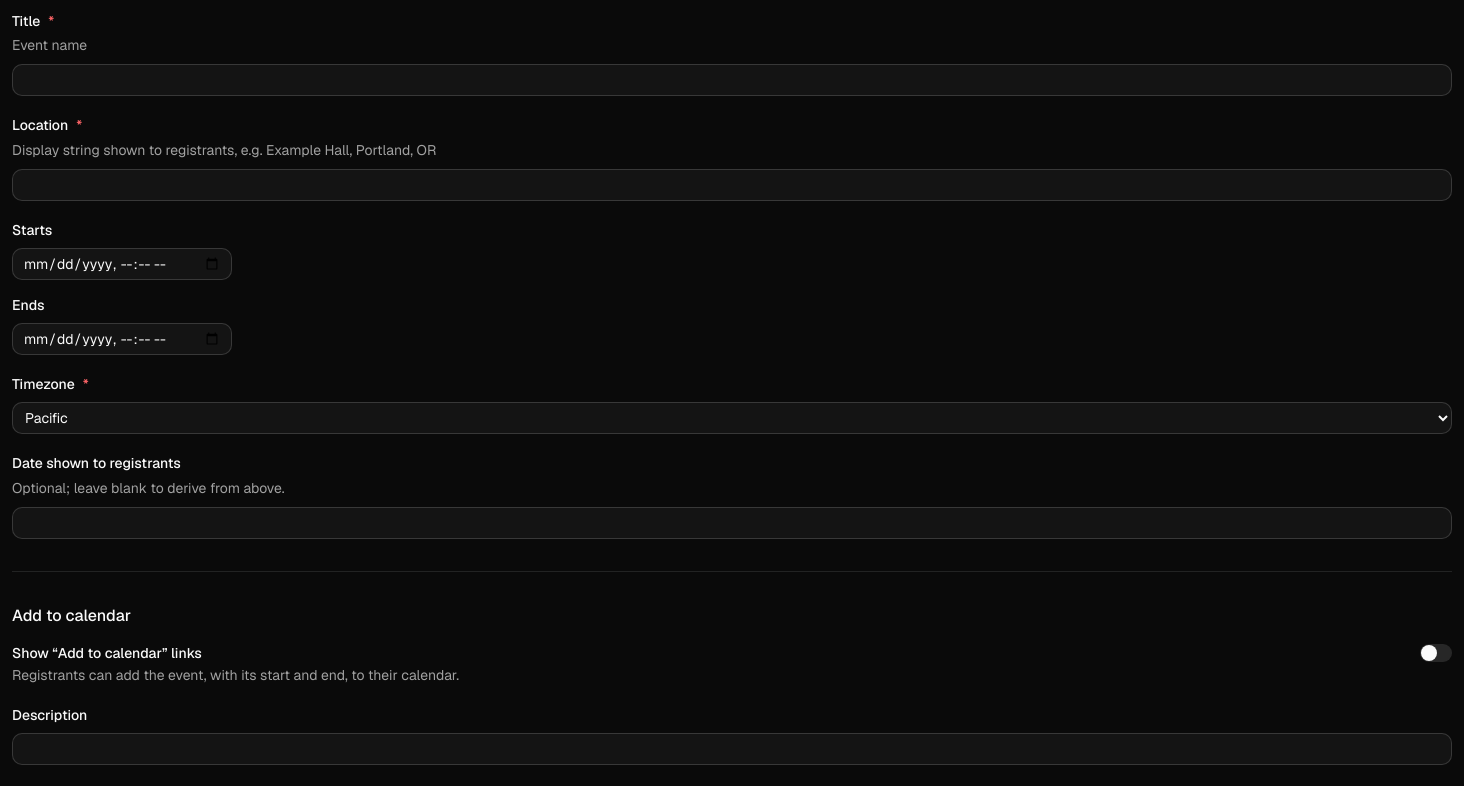
EventForm › calendar links › need a start and end before they're saved as shown
Click the switch named "Add to calendar": (1436, 653) 1420,644 -> 1452,662
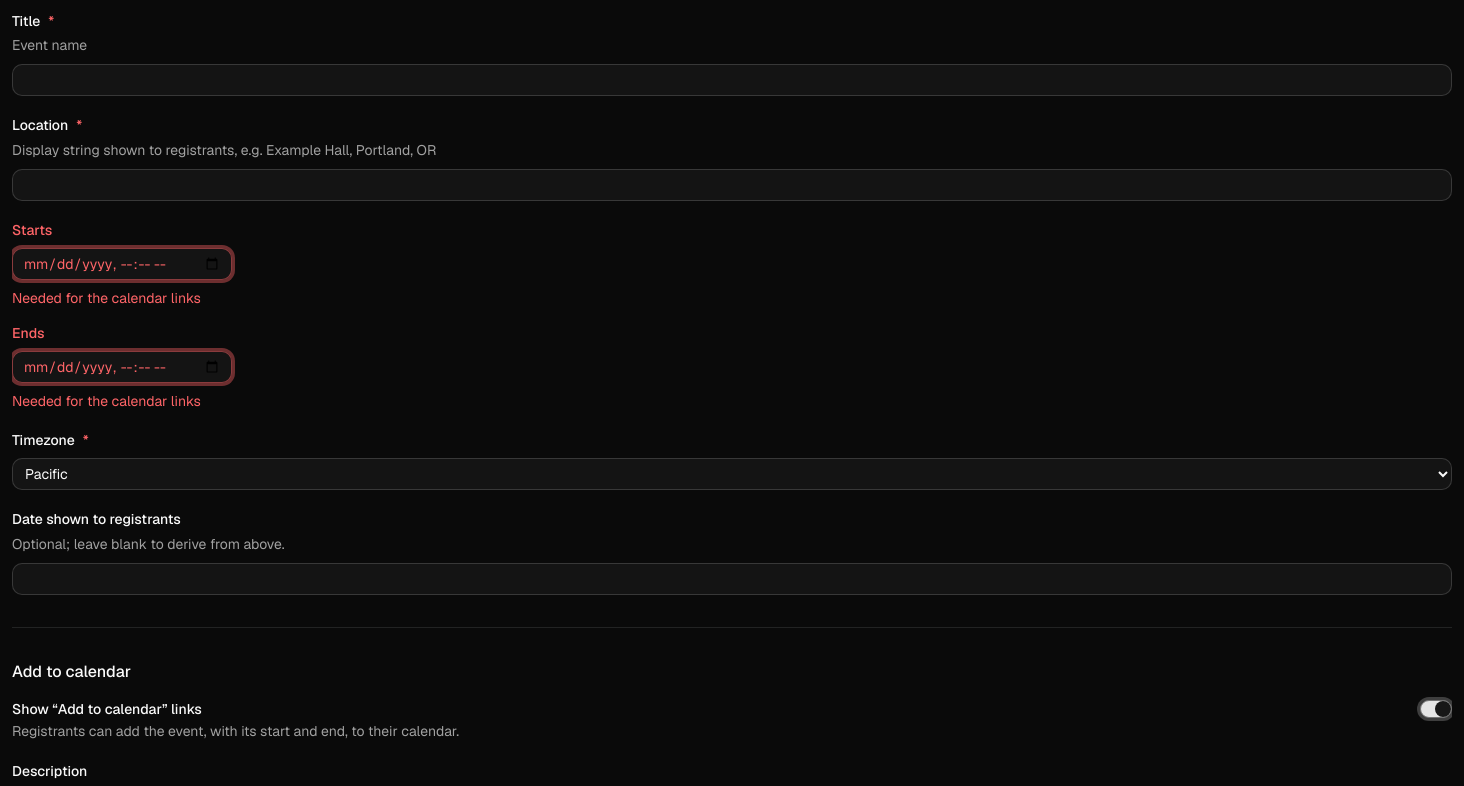
Now the text "Needed for the calendar links" is shown 2 times, box 12,289 -> 201,307; 12,392 -> 201,410
